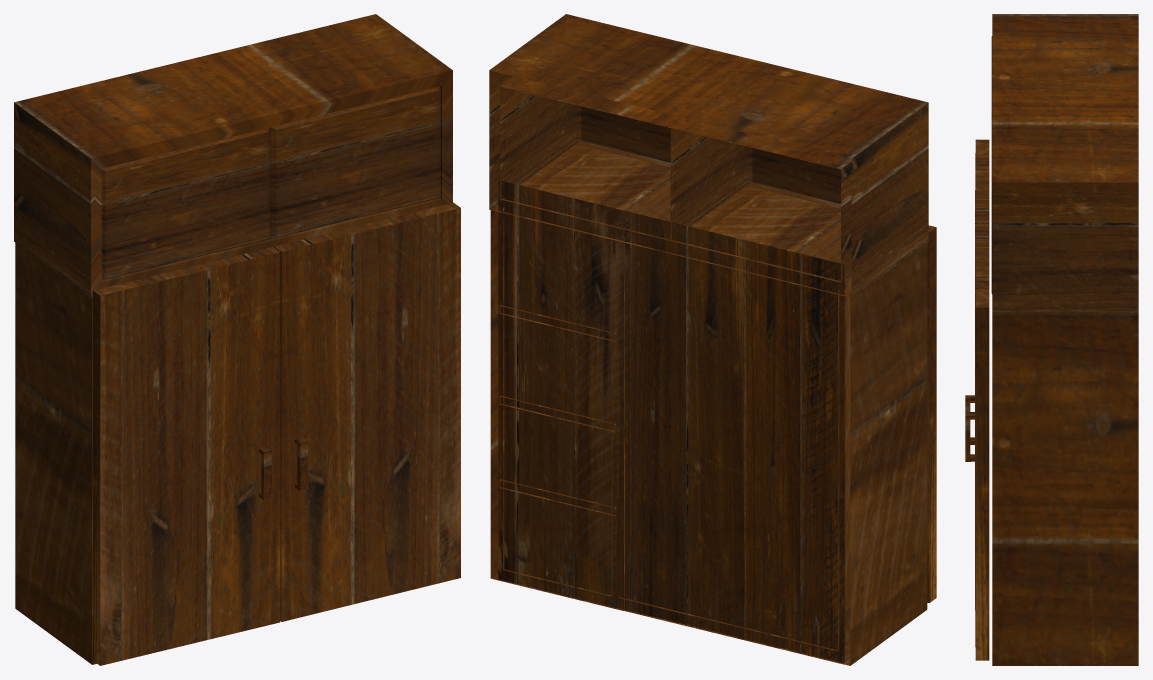
The model's file is ropero 1.fbx.
3 renders of one model, left to right at view 1: azimuth 30°, elevation 25°; view 2: azimuth 150°, elevation 25°; view 3: azimuth 270°, elevation 25°, orthographic. The views are drawn at different scales.
Visible parts, largest first — view 1: armario_CUERPO.004, armario_CUERPO.013, armario_CUERPO.007; view 2: armario_CUERPO.004, armario_CUERPO.013; view 3: armario_CUERPO.004, armario_CUERPO.007, armario_CUERPO.013.
Boxes of the visible parts, box(x1,y1,x2,y2) form: armario_CUERPO.004: box(14, 14, 452, 664); armario_CUERPO.013: box(93, 247, 280, 665); armario_CUERPO.007: box(274, 202, 460, 621); armario_CUERPO.004: box(489, 14, 928, 665); armario_CUERPO.013: box(927, 225, 936, 603); armario_CUERPO.004: box(991, 14, 1138, 665); armario_CUERPO.007: box(965, 224, 989, 660); armario_CUERPO.013: box(965, 139, 989, 444).
Size of the model in its own units: 1.9 by 2.54 by 0.825.
